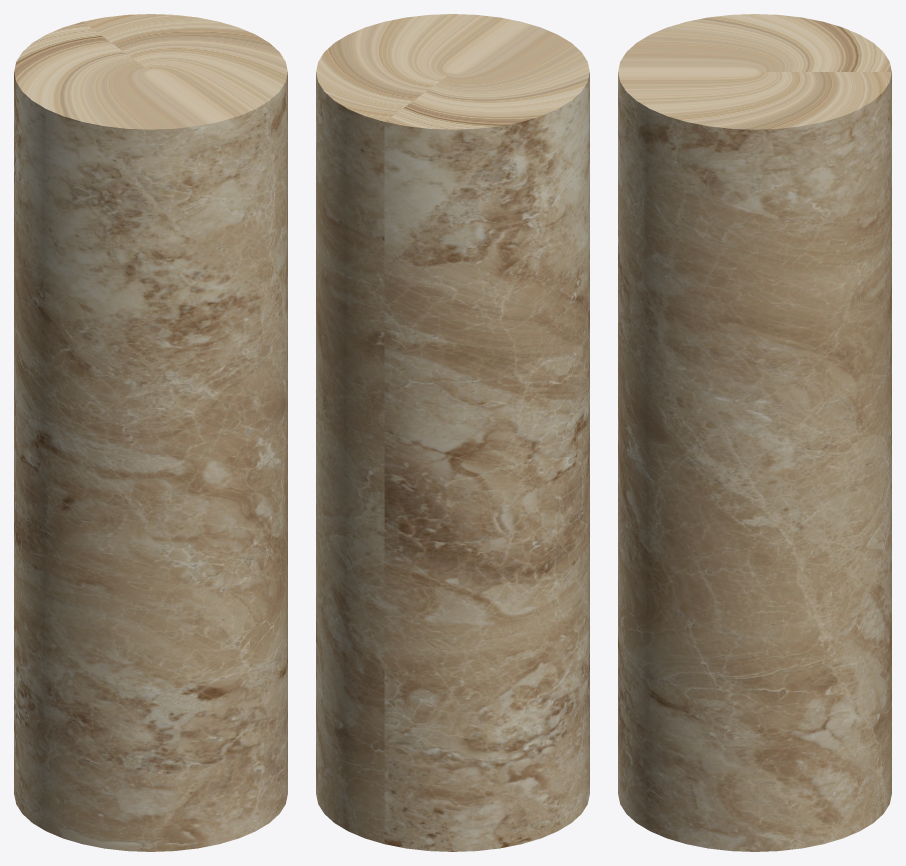
The model's file is pillar.FBX.
3 views of the same model, side by side, from view 1: azimuth 30°, elevation 25°; view 2: azimuth 150°, elevation 25°; view 3: azimuth 270°, elevation 25° (orthographic).
Visible parts, largest first — view 1: Cylinder001; view 2: Cylinder001; view 3: Cylinder001.
Boxes of the visible parts, box(x1,y1,x2,y2) form: Cylinder001: box(14, 14, 287, 851); Cylinder001: box(316, 14, 589, 851); Cylinder001: box(618, 14, 891, 851).
Size of the model in its own units: 44.86 by 131 by 44.86.
1 material, 1 textured.
